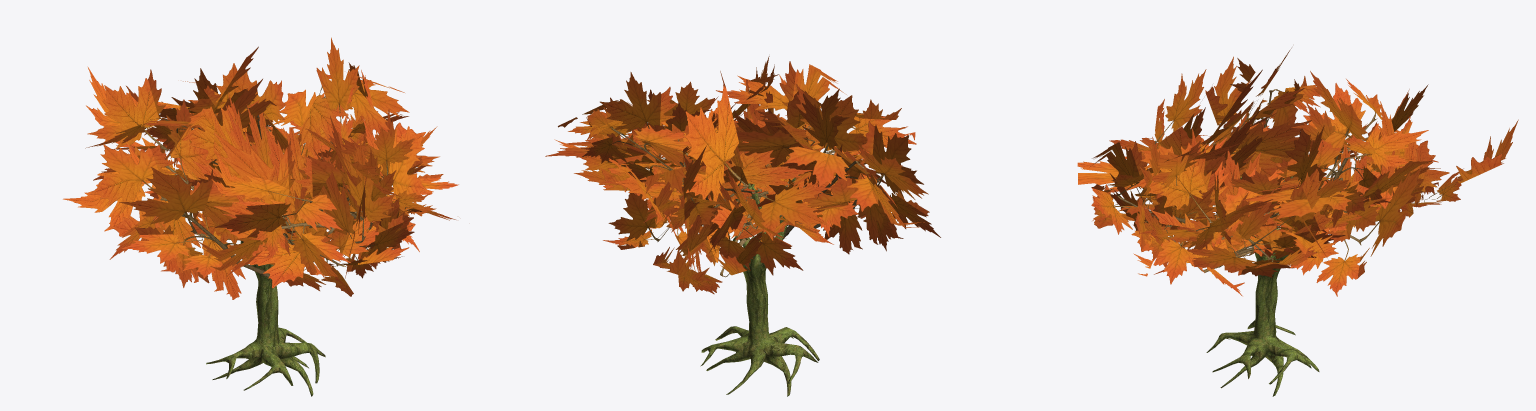
The model's file is Tree02.glb.
3 views of the same model, side by side, from view 1: azimuth 30°, elevation 25°; view 2: azimuth 150°, elevation 25°; view 3: azimuth 270°, elevation 25° (orthographic). The views are drawn at different scales.
Parts seen in each view (by area): view 1: Tree02.LOD0; view 2: Tree02.LOD0; view 3: Tree02.LOD0.
Boxes of the visible parts, <box> form: Tree02.LOD0: <box>63,37,458,396</box>; Tree02.LOD0: <box>545,56,940,396</box>; Tree02.LOD0: <box>1077,48,1518,396</box>.
Size of what is drawn, in the model's own units: 13.56 by 9.28 by 12.28.
2 materials, 2 textured.
